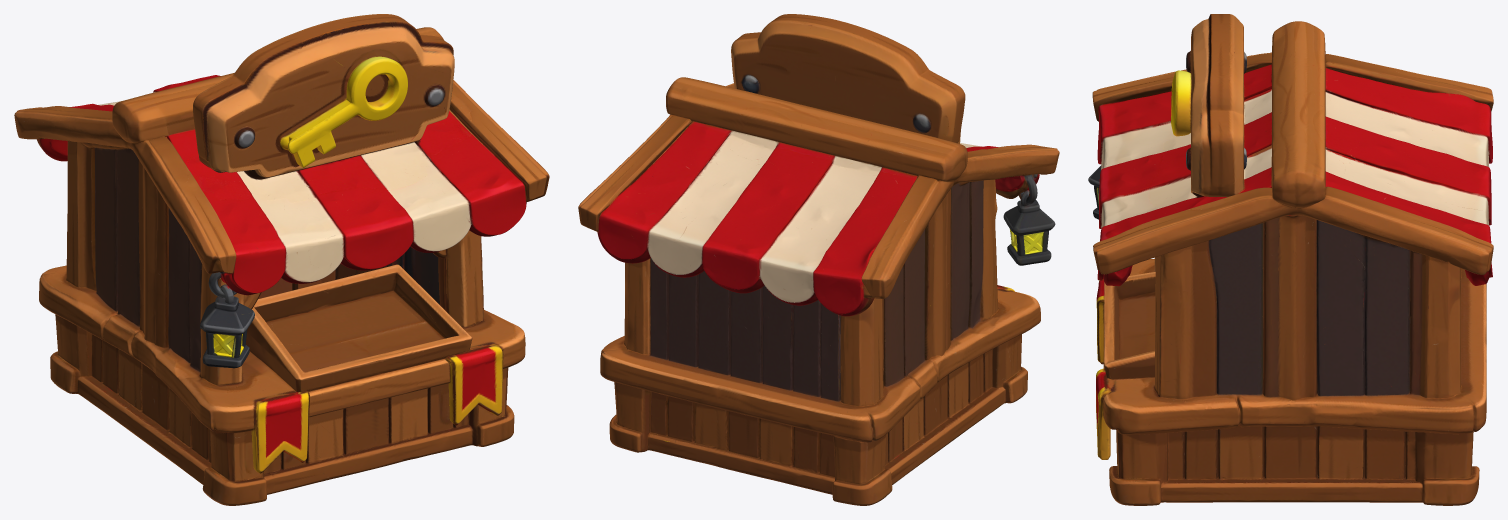
File: shop_keys.glb
3 views of the same model, side by side, from view 1: azimuth 30°, elevation 25°; view 2: azimuth 150°, elevation 25°; view 3: azimuth 270°, elevation 25° (orthographic). The views are drawn at different scales.
Size of the model in its own units: 1.69 by 1.9 by 1.73.
1 material, 1 textured.
